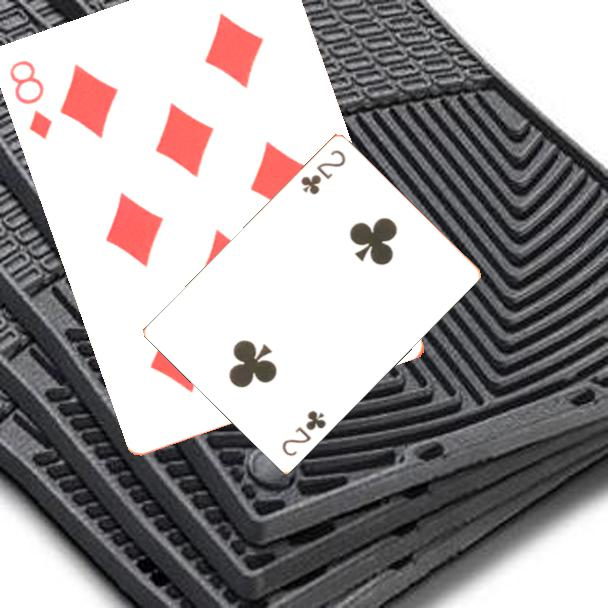c02: (297, 145, 349, 197), (278, 406, 329, 459)
d08: (6, 56, 56, 143)
